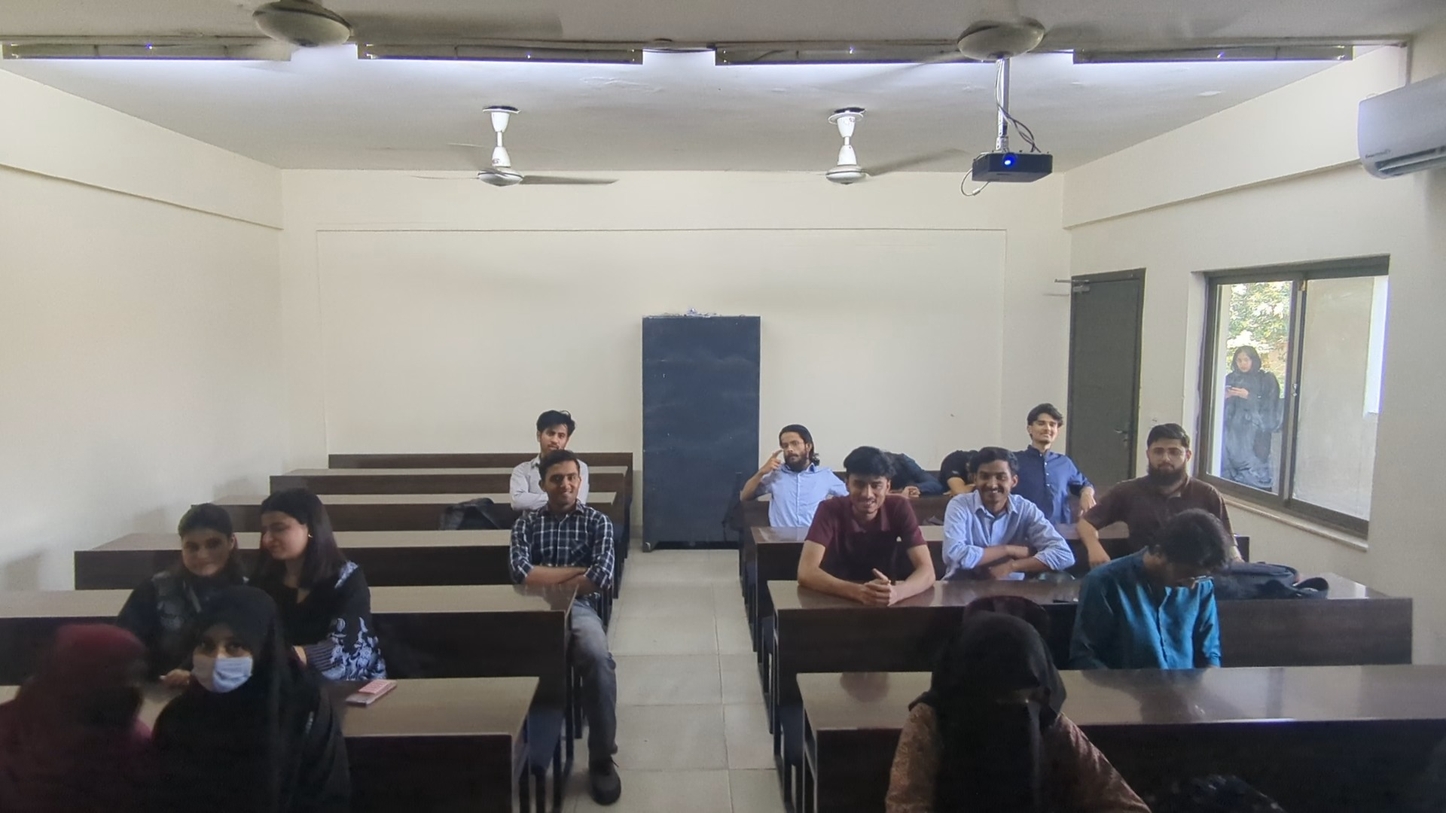look_forward: (160, 590, 352, 813), (796, 448, 935, 602), (938, 454, 1071, 580), (1089, 422, 1228, 527), (511, 452, 613, 595), (136, 500, 238, 622), (740, 424, 828, 530), (1019, 401, 1090, 508), (522, 410, 580, 453)
sleep: (880, 439, 932, 499), (946, 426, 974, 493)
turn_head: (257, 488, 381, 679)
using_device: (876, 607, 1150, 813), (1066, 510, 1233, 668)
